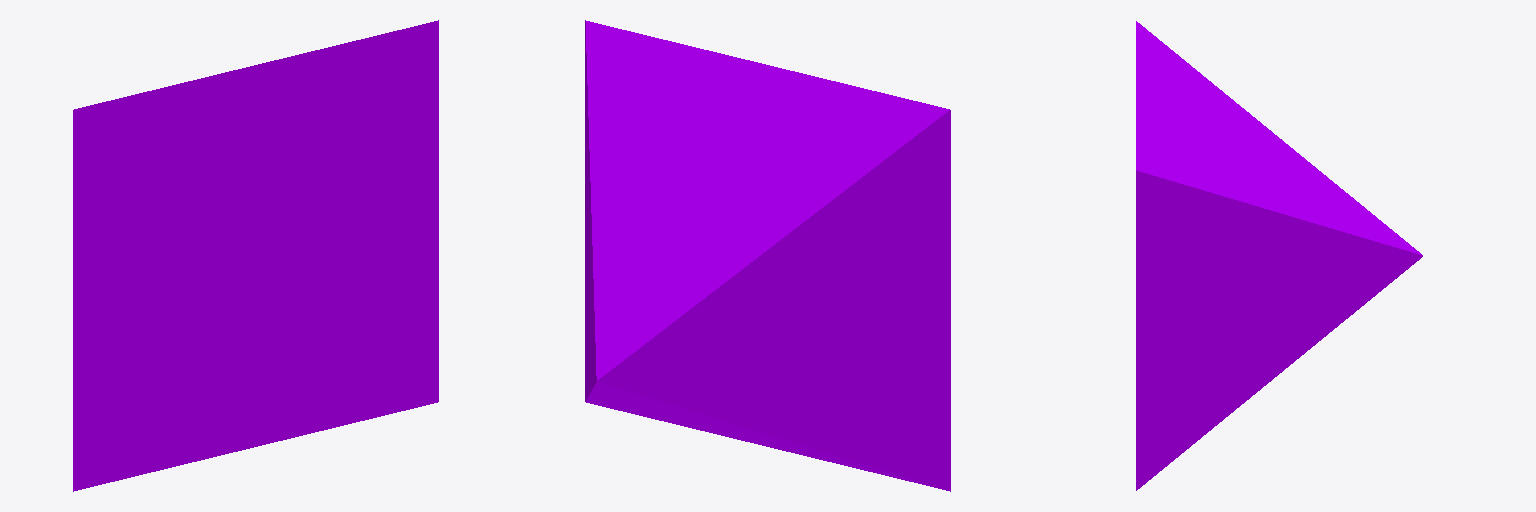
robot.urdf — urdf_robot:
<?xml version="0.0" ?>
<robot name="urdf_robot">
  <link name="baseLink">
  	<contact>
      <rolling_friction value="0.03"/>
      <spinning_friction value="0.03"/>
    </contact>

    <inertial>
      <origin rpy="0 0 0" xyz="0 0 0"/>
       <mass value="0.0"/>
       <inertia ixx="0" ixy="0" ixz="0" iyy="0" iyz="0" izz="0"/>
    </inertial>
    <visual>
      <origin rpy="0 0 0" xyz="0 -0.5 0"/>
      <geometry>
				<mesh filename="Pyramid Icon obj.obj" scale="0.5 0.5 0.5"/>      
      </geometry>
      <material name="purple">
        <color rgba="0.725 0 1 1"/>
        <specular rgb="1 1 1"/>
      </material>
    </visual>
    <!-- <collision>
      <origin rpy="0 0 0" xyz="0 0 0"/>
      <geometry>
	 <sphere radius="0.5"/>
      </geometry>
    </collision> -->
  </link>
</robot>

--- Facts derived from the render (not from the file) ---
Views: 3 orthographic renders of the robot side by side, from view 1: azimuth 30°, elevation 25°; view 2: azimuth 150°, elevation 25°; view 3: azimuth 270°, elevation 25°.
Model urdf_robot with 1 links and 0 joints (none), rooted at baseLink, posed every joint at zero.
Links seen in each view (by area): view 1: baseLink; view 2: baseLink; view 3: baseLink.
Boxes of the visible links, bbox=[...] form: baseLink: bbox=[73, 20, 438, 491]; baseLink: bbox=[585, 20, 950, 491]; baseLink: bbox=[1136, 21, 1422, 490].
Bounding box of the posed robot: 1 × 0.813 × 1 m (x, y, z).
Meshes: 1 distinct files referenced, 1 mesh visuals loaded (1 OBJ).